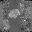people: (9, 8, 20, 19)
